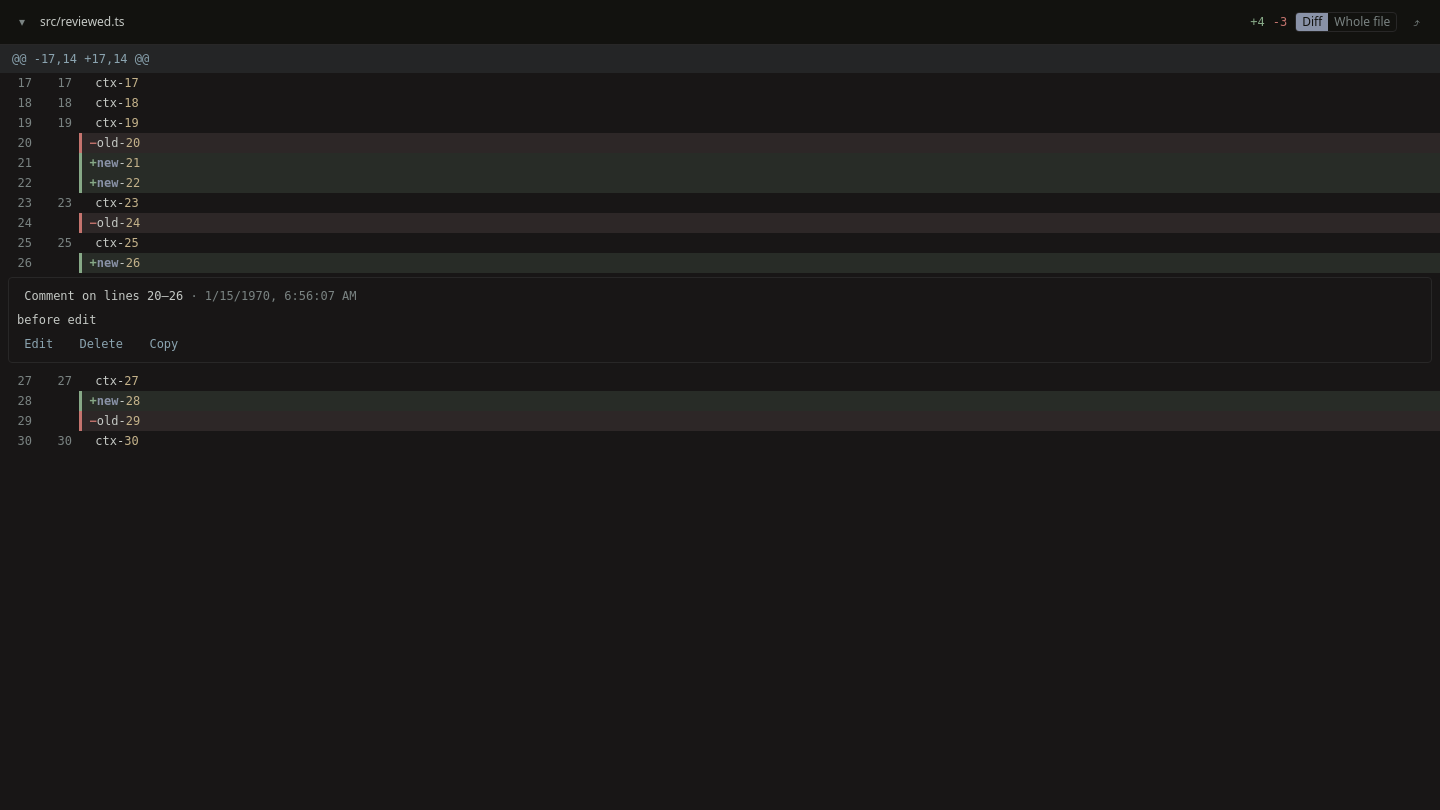
Test: SidebarDiffView inline comment threads › Save from inline edit updates the thread and closes the editor
Click the button with test id "diff-comment-edit". click: (39,344)
box: [17,334,60,354]
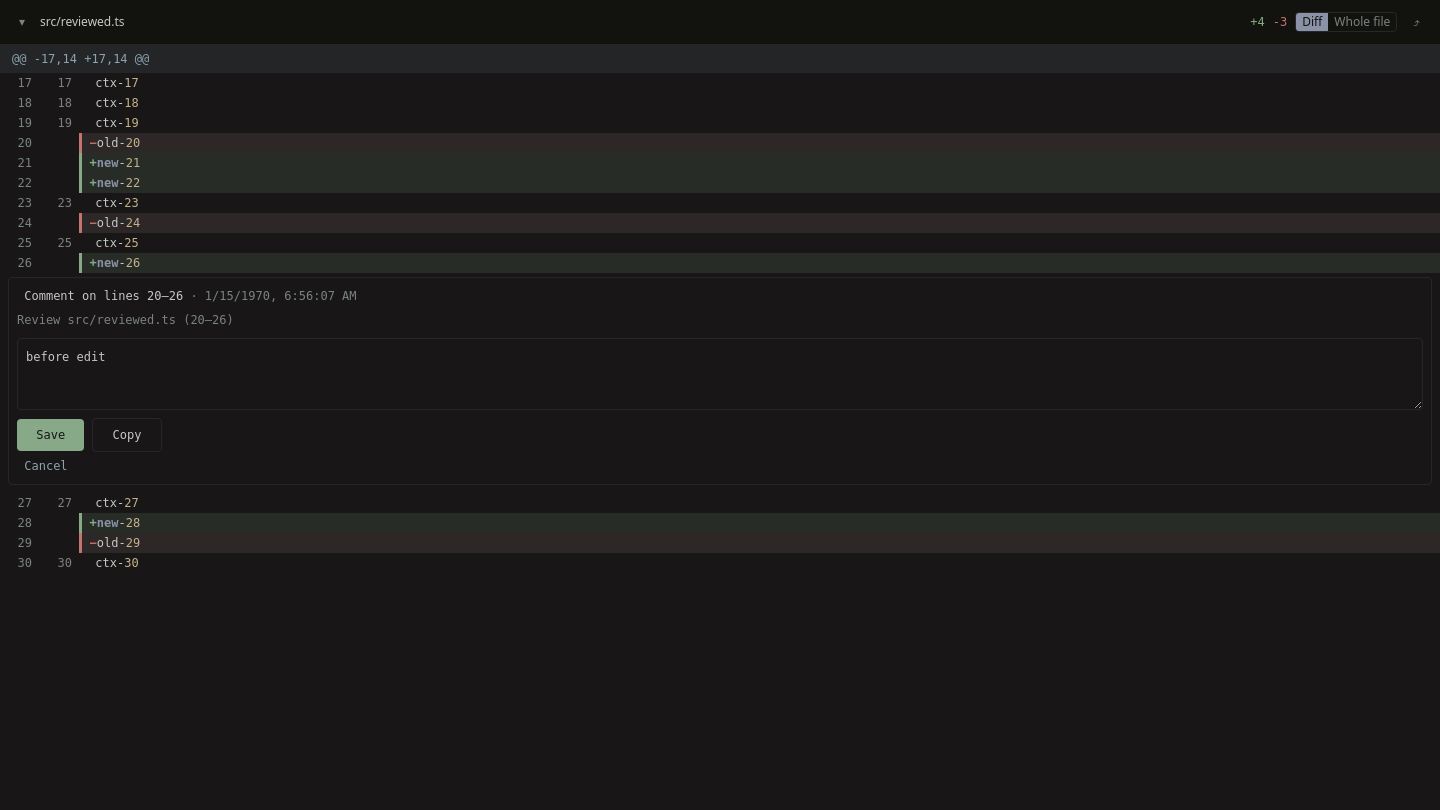
Replace the text in the text box with test id "diff-comment-input" with "after edit". click: (720,374)
box: [17,338,1423,410]
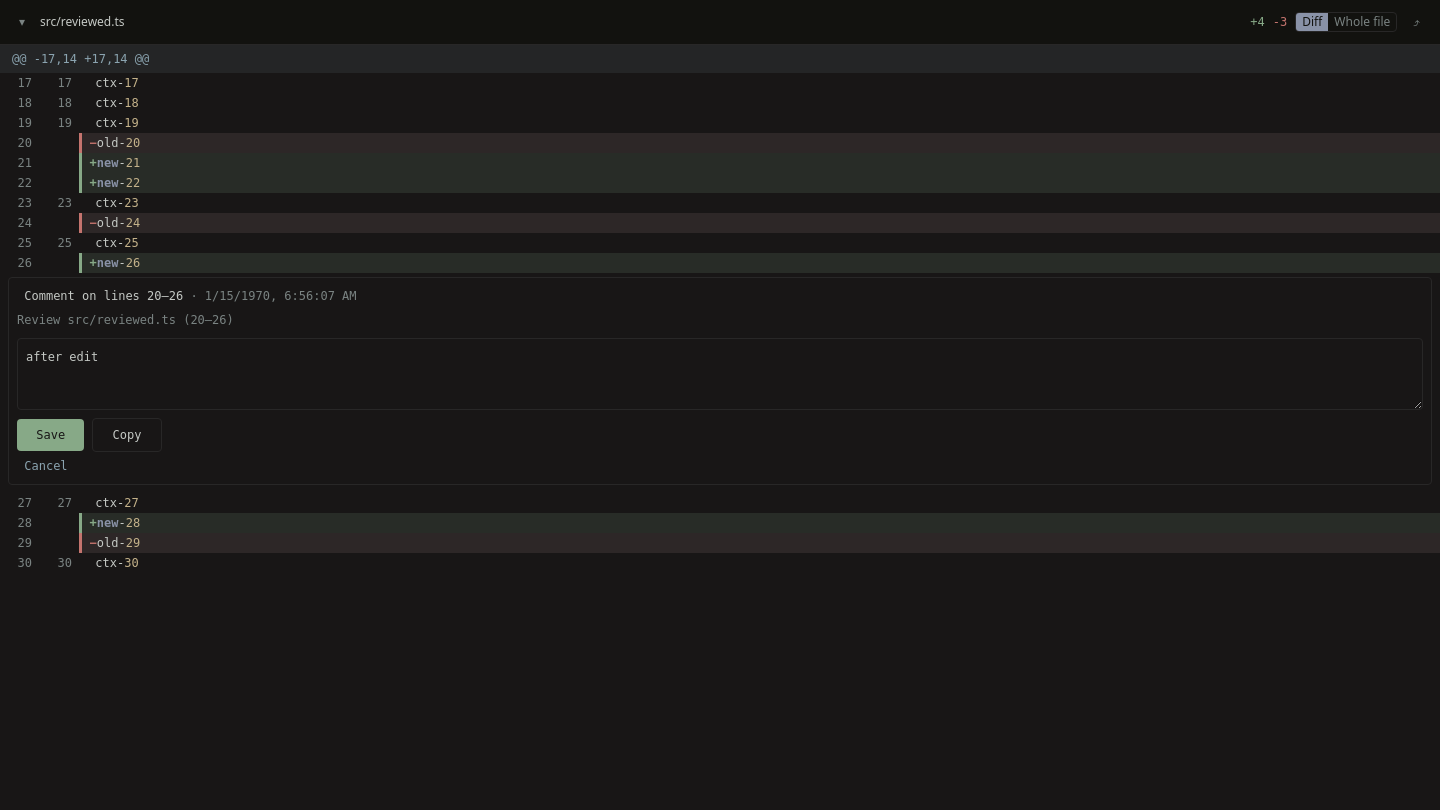
Click the button with test id "diff-comment-save". click: (51,435)
box: [17,419,84,451]
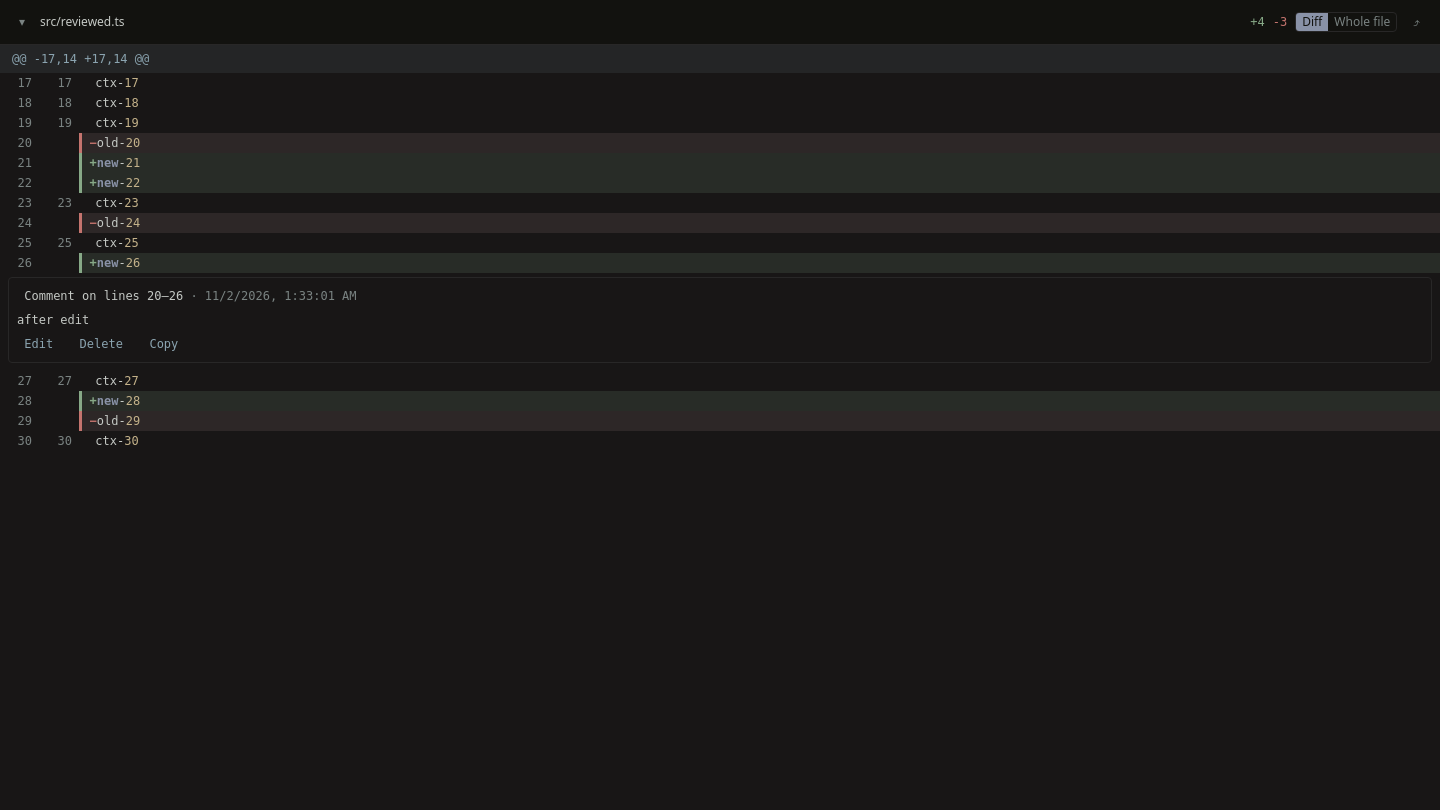
Check: the text with test id "diff-comment-message" reads "after edit", box [17,313,89,327]
